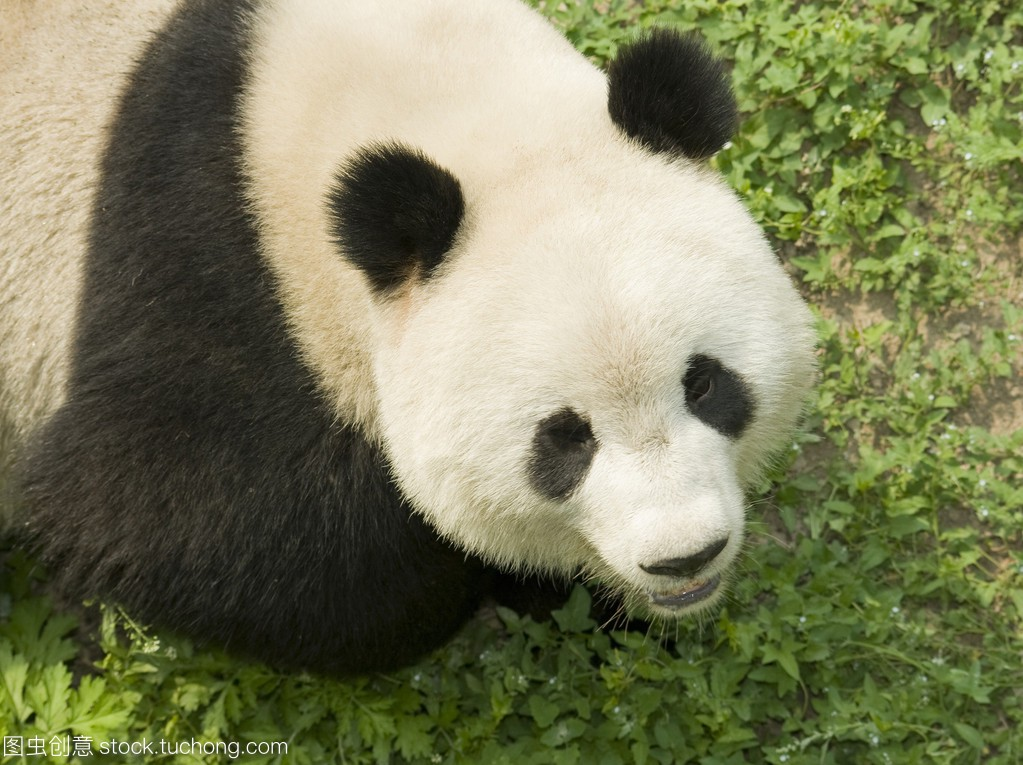panda: (1, 1, 922, 694)
